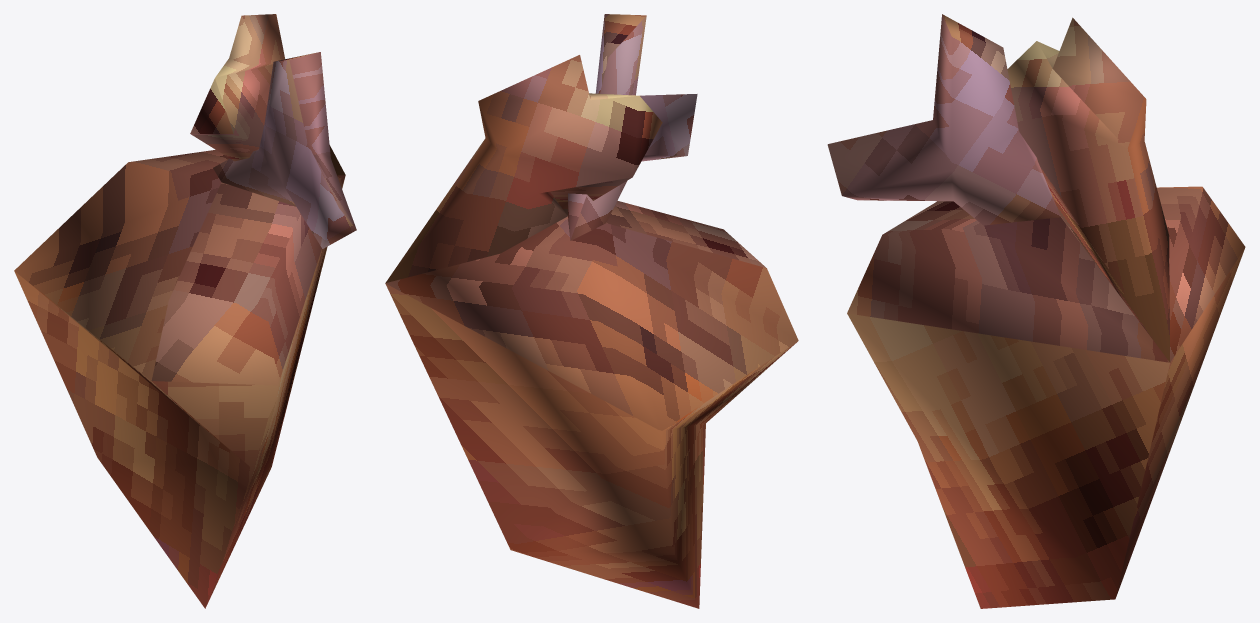
File: eqp_organ_heart_s01_l3.fbx
3 renders of one model, left to right at view 1: azimuth 30°, elevation 25°; view 2: azimuth 150°, elevation 25°; view 3: azimuth 270°, elevation 25°, orthographic. The views are drawn at different scales.
Visible parts, largest first — view 1: mesh_node; view 2: mesh_node; view 3: mesh_node.
Boxes of the visible parts, <box> form: mesh_node: <box>14,14,356,608</box>; mesh_node: <box>385,14,798,608</box>; mesh_node: <box>827,14,1245,608</box>.
Bounding box in the file's own units: 0.0984 × 0.1715 × 0.1024.
